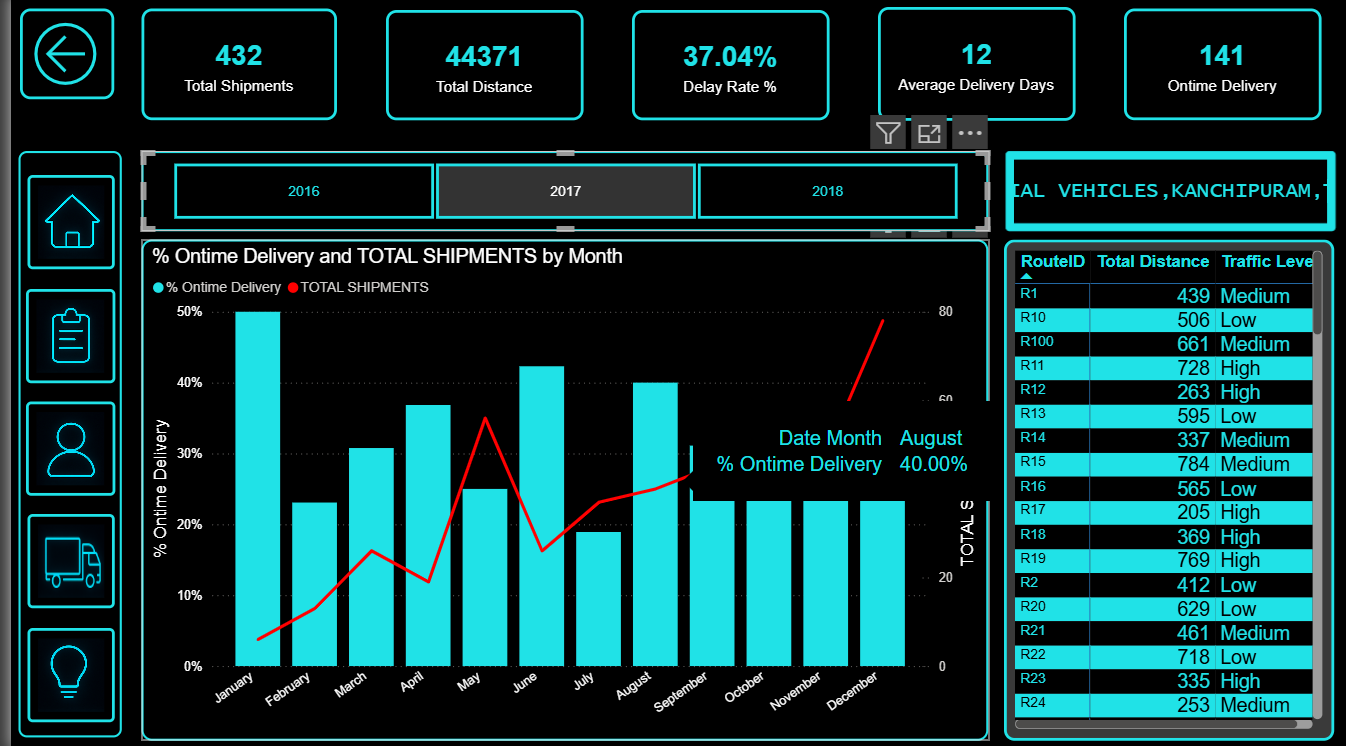

What the dashboard file says about the page in this screenshot:
{"tool":"powerbi","page":{"name":"Delivery Performance ","canvas":[1280,720],"ordinal":2},"visuals":[{"type":"lineStackedColumnComboChart","fields":{"Category":["Date Table.Date.Variation.Date Hierarchy.Month"],"Y":["MEASURE TABLE (2).% Ontime Delivery"],"Y2":["MEASURE TABLE (2).TOTAL SHIPMENTS"]},"box":[125,233.3,808.3,478.3],"z":0},{"type":"card","fields":{"Values":["MEASURE TABLE (2).Delay Rate %"]},"box":[593.3,15,188.3,105],"z":1000},{"type":"pivotTable","fields":{"Rows":["/Routes.RouteID"],"Values":["MEASURE TABLE (2).Total Distance","Min(/Routes.TrafficLevel)"]},"box":[948.3,233.3,315,478.3],"z":2000},{"type":"card","fields":{"Values":["MEASURE TABLE (2).Total Distance"]},"box":[358.3,15,188.3,105],"z":3000},{"type":"card","fields":{"Values":["MEASURE TABLE (2).Ontime Delivery %"]},"box":[1063.3,13.3,188.3,106.7],"z":4000},{"type":"card","title":"Average Delivery Time","fields":{"Values":["MEASURE TABLE (2).AVG Delivery Time"]},"box":[828.3,11.7,188.3,108.3],"z":5000},{"type":"slicer","fields":{"Values":["Date Table.Date.Variation.Date Hierarchy.Year"]},"box":[125,148.3,808.3,76.7],"z":6000},{"type":"actionButton","box":[8.3,13.3,90,86.7],"z":7000},{"type":"ScrollingTextVisual1448795304508","fields":{"Measure Absolute":["CountNonNull(/Routes.RouteID)"],"Category":["/Routes.Merged"]},"box":[950,148.3,315,76.7],"z":8000},{"type":"card","fields":{"Values":["MEASURE TABLE (2).TOTAL SHIPMENTS"]},"box":[125,13.3,186.7,106.7],"z":9000},{"type":"shape","box":[6.7,148.3,98.3,560],"z":9500,"group":"g1"},{"type":"image","box":[13.4,279.7,85,90.3],"z":10000,"group":"g1"},{"type":"image","box":[15,171.8,83.3,90.3],"z":12000,"group":"g1"},{"type":"image","box":[13.4,387.7,85,90.3],"z":14000,"group":"g1"},{"type":"image","box":[15,603.5,83.3,90.3],"z":15000,"group":"g1"},{"type":"image","box":[15,495.6,83.3,90.3],"z":16000,"group":"g1"},{"type":"group","id":"g1","title":"Group 1","box":[6.7,148.3,98.3,560],"z":16001}]}

Visuals, with their boxes on the page's 1280x720 design canvas (x1, y1, x2, y2). These are canvas units, not pixel positions in the 1346x746 screenshot, which may show the page scaled, cropped or inside an application window:
lineStackedColumnComboChart - Date Table.Date.Variation.Date Hierarchy.Month x MEASURE TABLE (2).% Ontime Delivery: rect(125, 233, 933, 712)
card - MEASURE TABLE (2).Delay Rate %: rect(593, 15, 782, 120)
pivotTable - /Routes.RouteID x MEASURE TABLE (2).Total Distance: rect(948, 233, 1263, 712)
card - MEASURE TABLE (2).Total Distance: rect(358, 15, 547, 120)
card - MEASURE TABLE (2).Ontime Delivery %: rect(1063, 13, 1252, 120)
"Average Delivery Time" card: rect(828, 12, 1017, 120)
slicer - Date Table.Date.Variation.Date Hierarchy.Year: rect(125, 148, 933, 225)
actionButton: rect(8, 13, 98, 100)
ScrollingTextVisual1448795304508 - CountNonNull(/Routes.RouteID) x /Routes.Merged: rect(950, 148, 1265, 225)
card - MEASURE TABLE (2).TOTAL SHIPMENTS: rect(125, 13, 312, 120)
shape: rect(7, 148, 105, 708)
image: rect(13, 280, 98, 370)
image: rect(15, 172, 98, 262)
image: rect(13, 388, 98, 478)
image: rect(15, 604, 98, 694)
image: rect(15, 496, 98, 586)
"Group 1" group: rect(7, 148, 105, 708)
